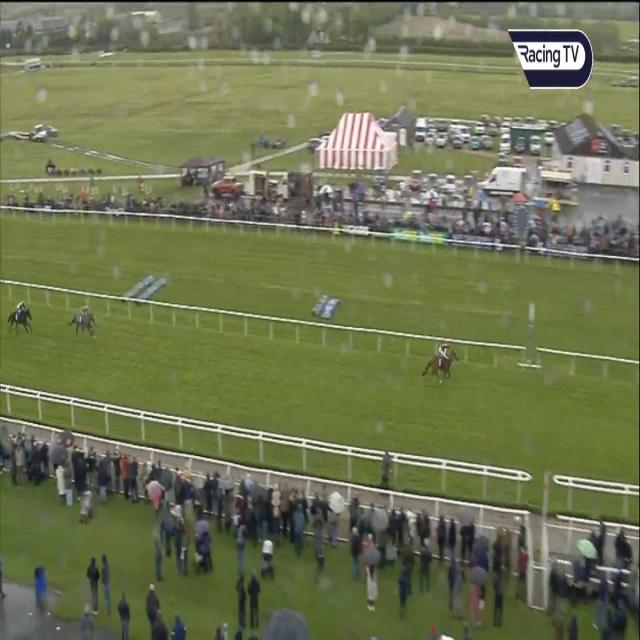horses-racing: (425, 340, 461, 385), (70, 304, 98, 340), (10, 300, 34, 334)
